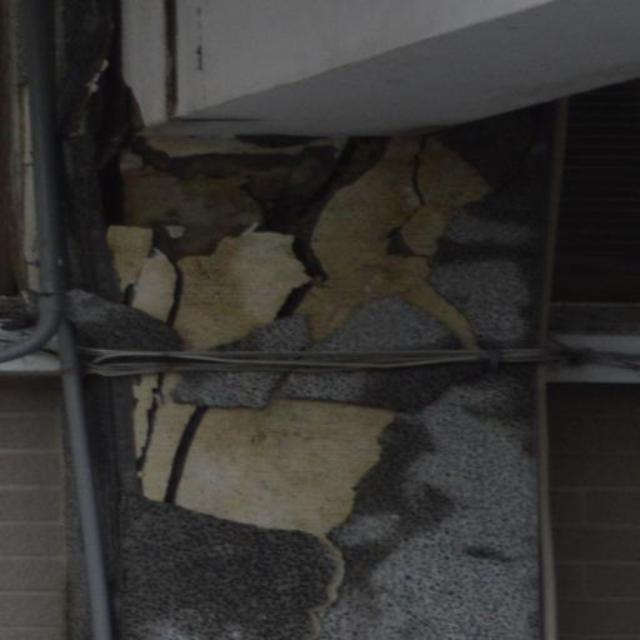D10: (122, 362, 549, 639), (106, 114, 561, 361)
